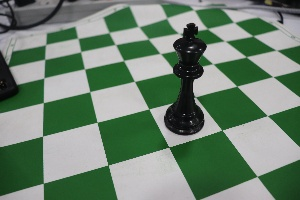black_king: (158, 8, 210, 139)
